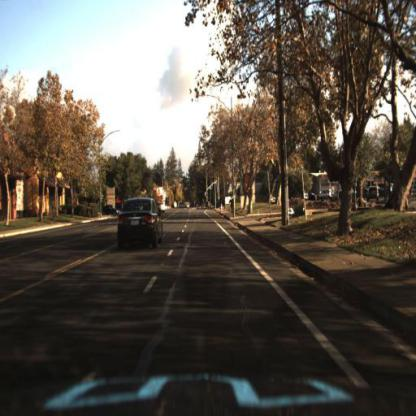car: (114, 195, 163, 249), (101, 204, 121, 220), (318, 189, 336, 203), (368, 187, 382, 203), (181, 203, 190, 209), (206, 203, 214, 209)
pedestrian: (230, 194, 236, 217)
